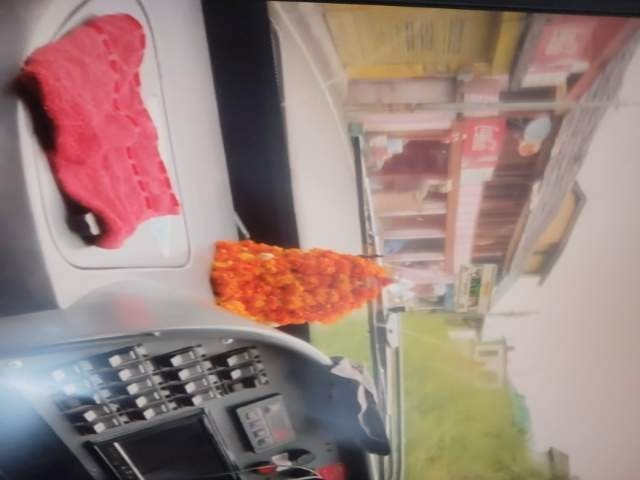pothole: (194, 311, 294, 391)
